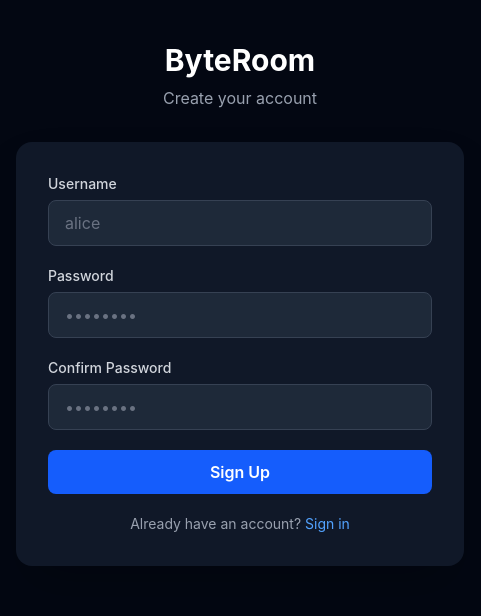
Test case: RegisterPage › validates password minimum length
The width and height of the screenshot is (481, 616).
Type "weak" into the password field labelled "Password" at [240, 315], box [48,292,432,338]
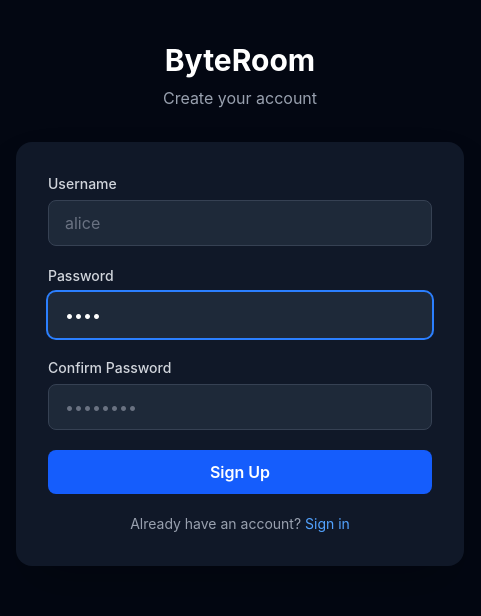
Click the button "Sign Up" at [240, 472], box [48,450,432,494]
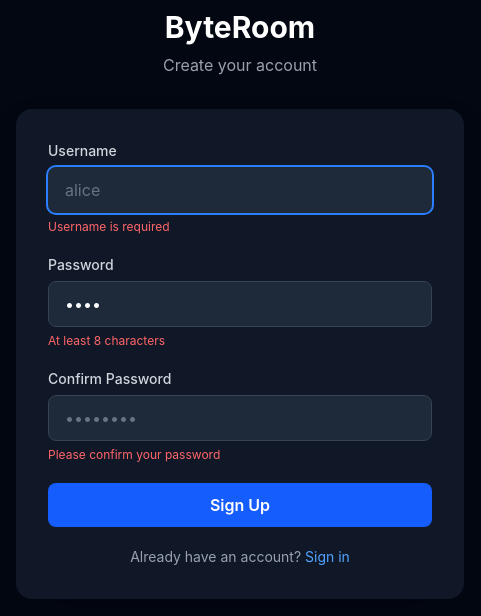
Check: the text "At least 8 characters" is shown, box [48,333,165,348]
